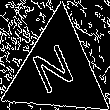N_SE: (31, 39, 83, 102)
